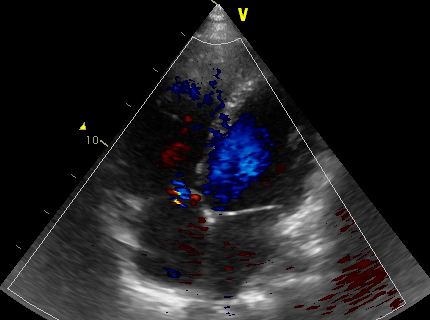TR: (158, 171, 211, 219)
